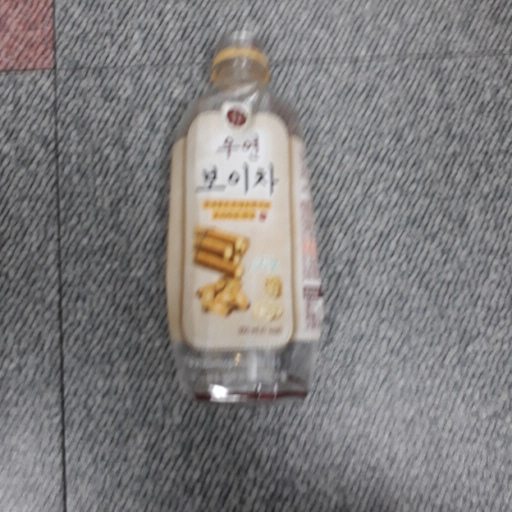Plastic_0: (161, 28, 323, 403)
